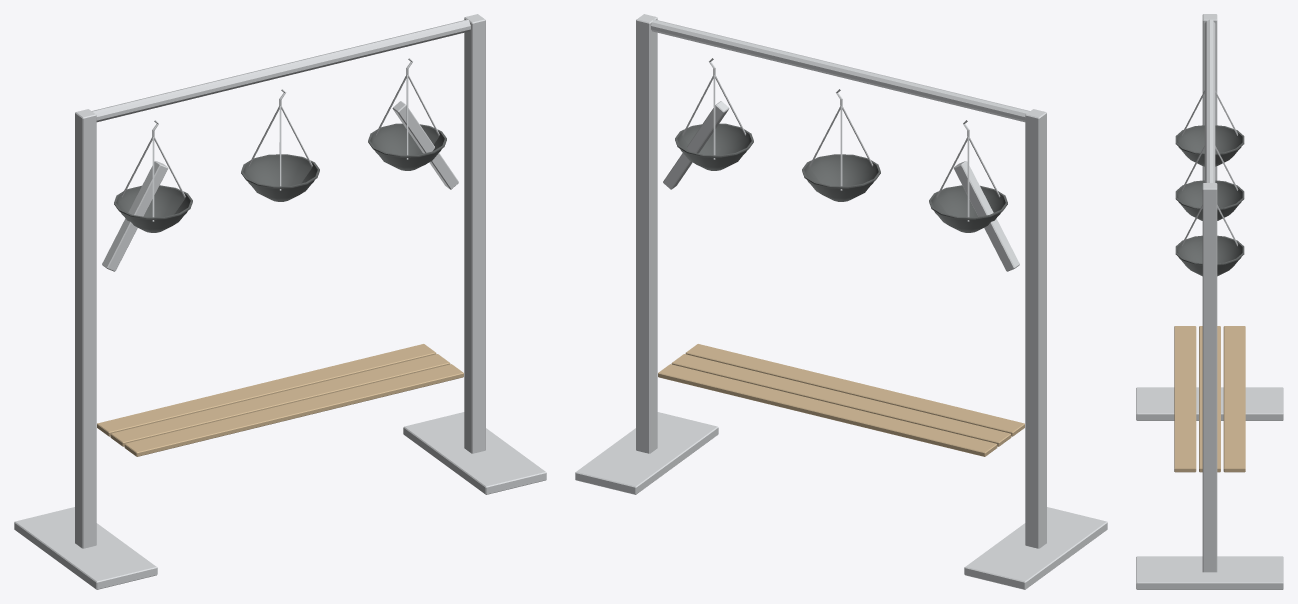
File: garden-centre-and-florist-hanging-basket-rail-9f54a262__17726.glb
3 renders of one model, left to right at view 1: azimuth 30°, elevation 25°; view 2: azimuth 150°, elevation 25°; view 3: azimuth 270°, elevation 25°, orthographic. The views are drawn at different scales.
Visible parts, largest first — view 1: hanging-basket-rail; view 2: hanging-basket-rail; view 3: hanging-basket-rail.
Boxes of the visible parts, bbox=[...] form: hanging-basket-rail: bbox=[14, 14, 546, 589]; hanging-basket-rail: bbox=[575, 14, 1107, 589]; hanging-basket-rail: bbox=[1136, 14, 1283, 589].
Size of the model in its own units: 2.2 by 2.05 by 0.6999.
